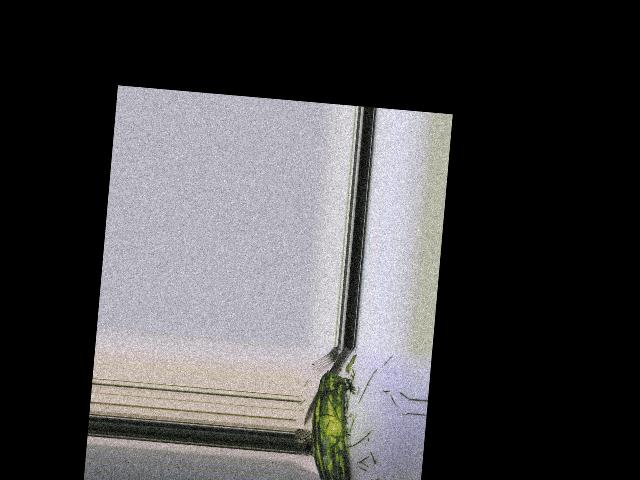cucumber: (306, 371, 360, 480)
